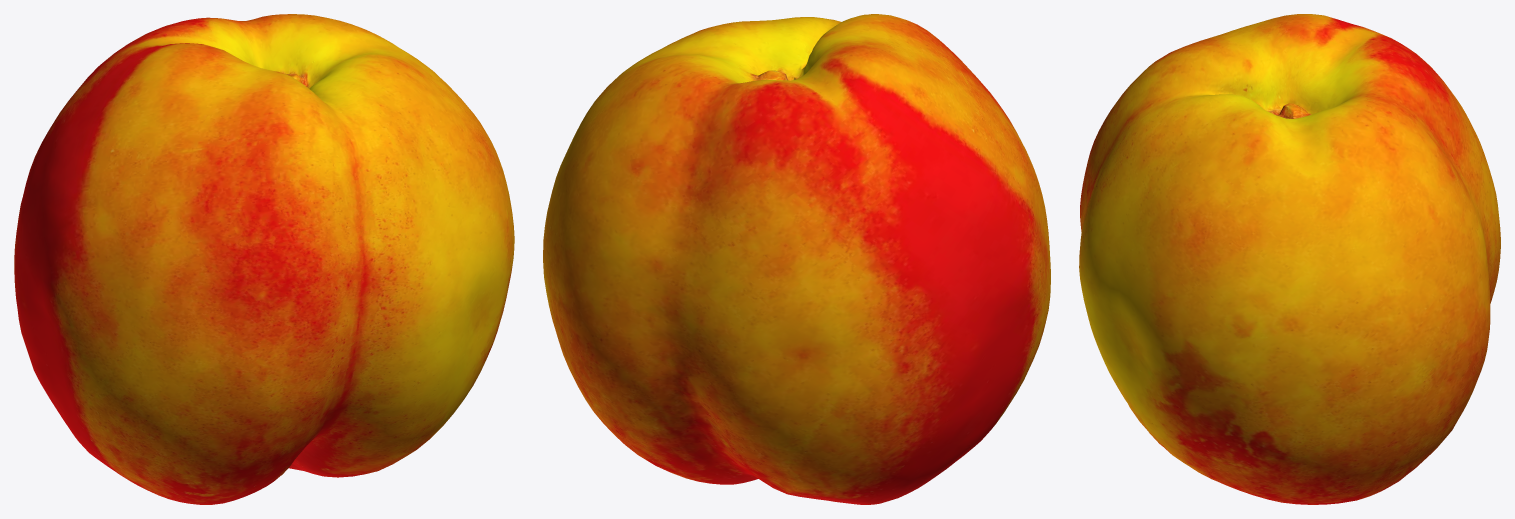
The model's file is apricot-0.glb.
The picture shows the model from 3 angles, left to right: view 1: azimuth 30°, elevation 25°; view 2: azimuth 150°, elevation 25°; view 3: azimuth 270°, elevation 25°; orthographic projection. The views are drawn at different scales.
Parts seen in each view (by area): view 1: Object_2; view 2: Object_2; view 3: Object_2.
Part boxes in pixels (x1,y1,x2,y2): Object_2: (14, 14, 514, 504); Object_2: (543, 14, 1050, 504); Object_2: (1079, 14, 1500, 504).
Size of the model in its own units: 22.11 by 21.02 by 19.46.
Materials: 1 (1 with a texture image).
